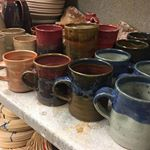cups: (91, 74, 149, 150), (50, 57, 114, 125), (21, 52, 72, 108), (1, 47, 38, 94)
